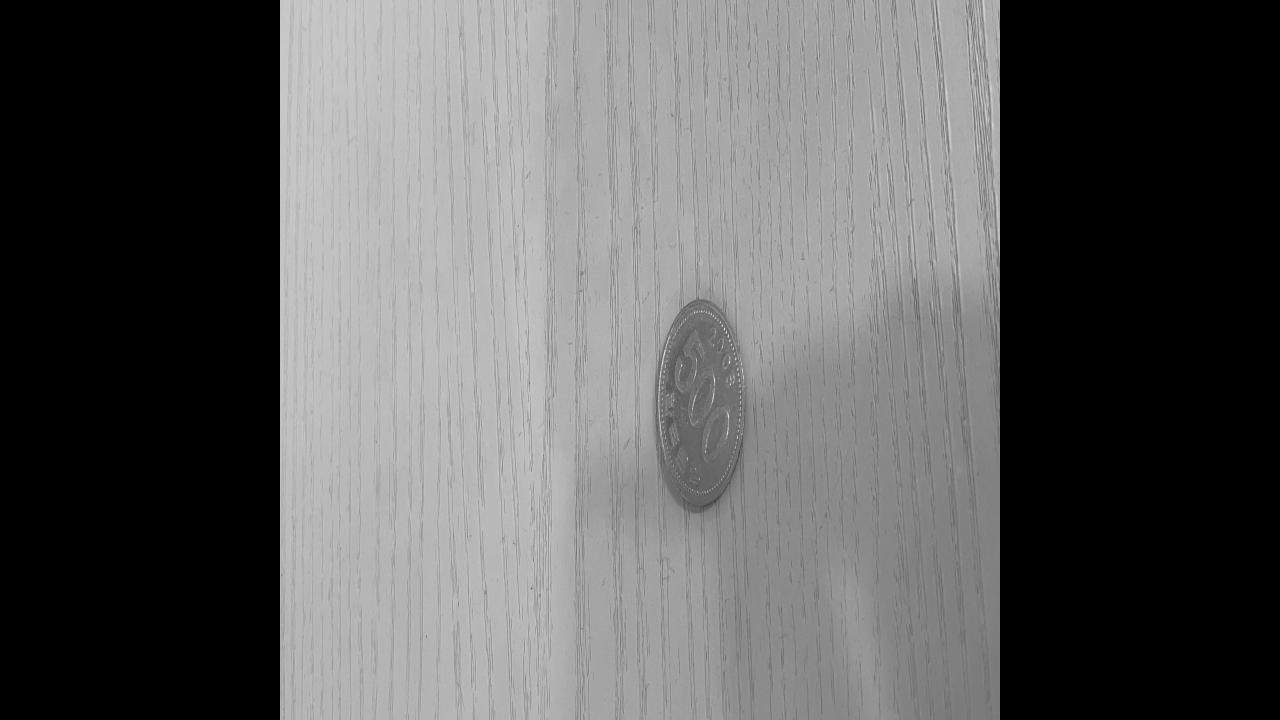coin: (655, 291, 745, 515)
